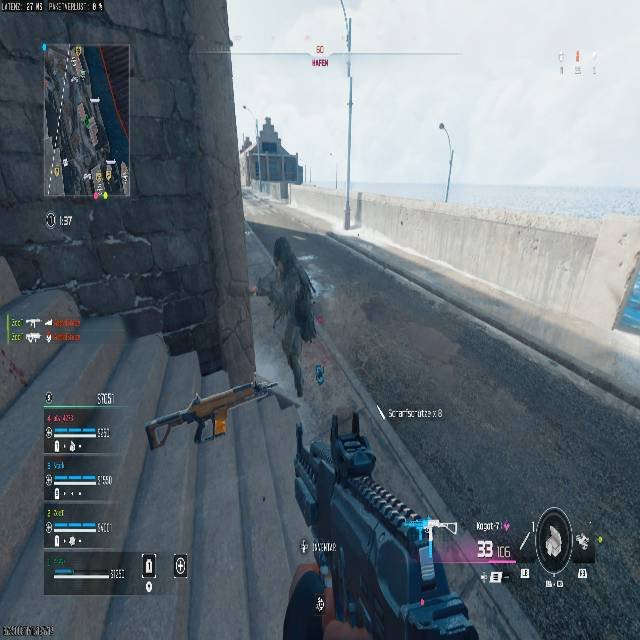head: (272, 236, 295, 267)
player: (253, 235, 322, 397), (248, 117, 295, 203)
